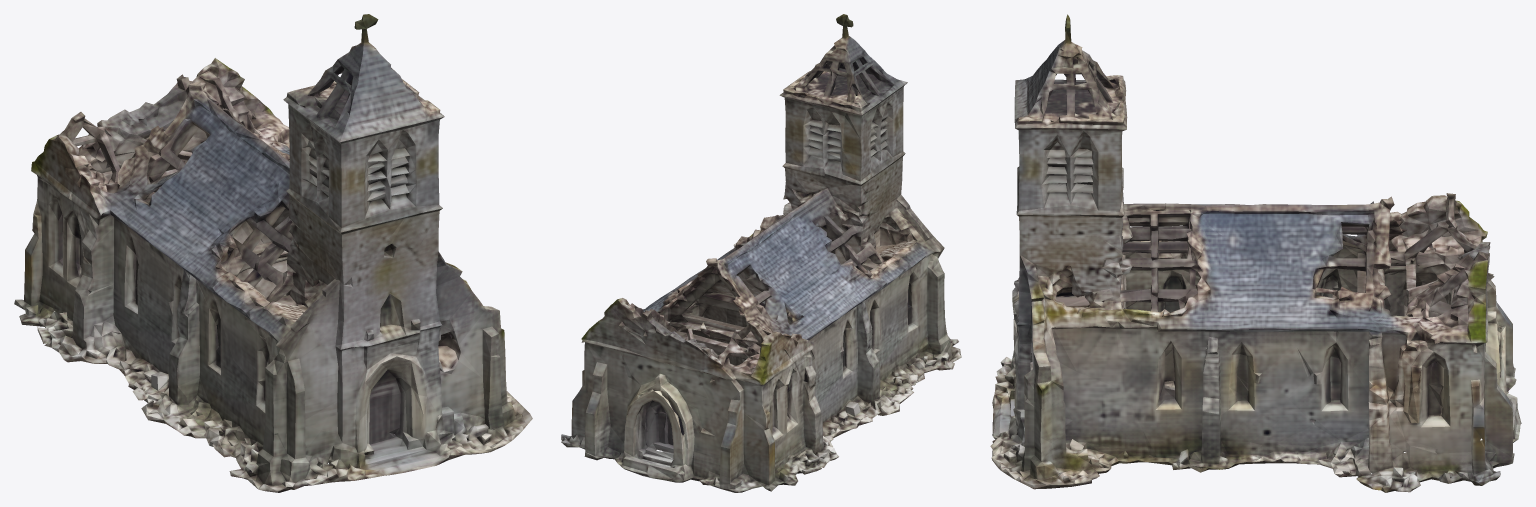
File: church.obj
3 views of the same model, side by side, from view 1: azimuth 30°, elevation 25°; view 2: azimuth 150°, elevation 25°; view 3: azimuth 270°, elevation 25° (orthographic). The views are drawn at different scales.
Parts seen in each view (by area): view 1: church; view 2: church; view 3: church.
Part boxes in pixels (x1,y1,x2,y2): church: (14, 14, 532, 492); church: (561, 14, 961, 492); church: (990, 14, 1521, 492).
Bounding box in the file's own units: 14.11 × 18.73 × 22.
1 material, 1 textured.
